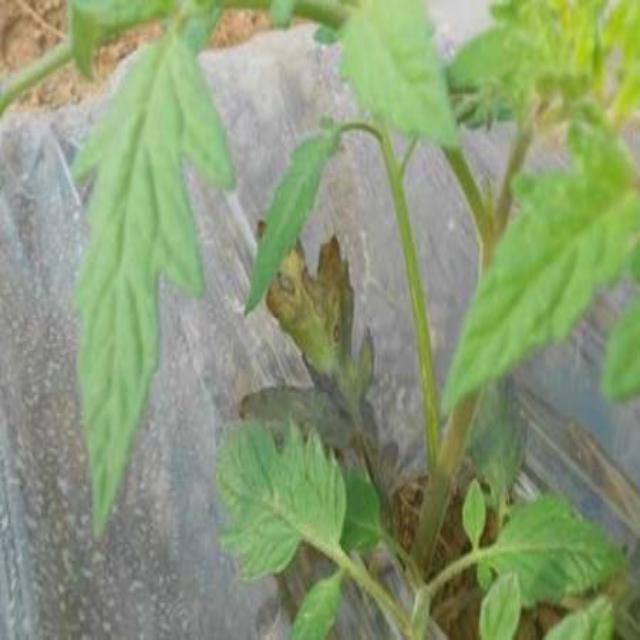Early_blight: (262, 223, 356, 373)
